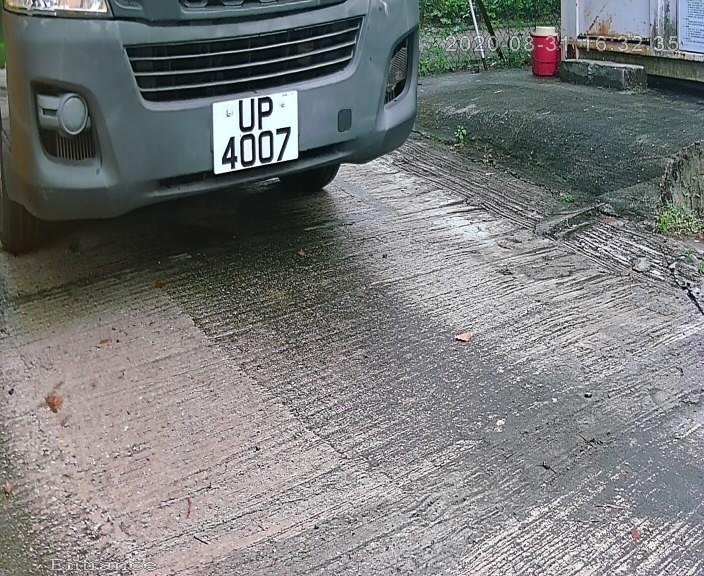Car: (16, 3, 437, 286)
License Plate: (202, 85, 315, 181)
